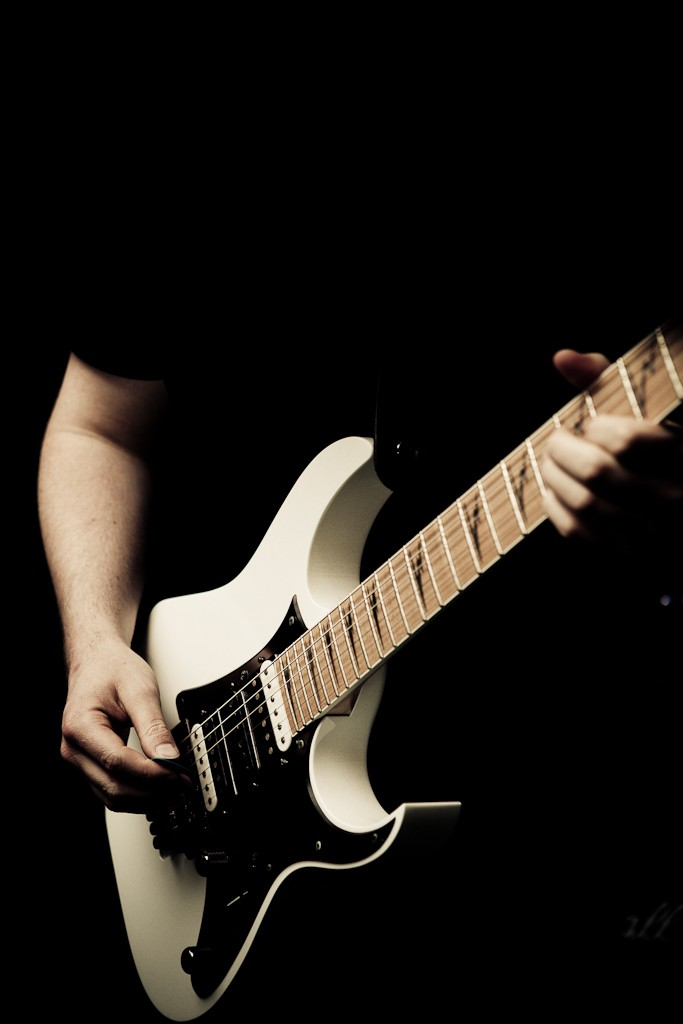guitar: (104, 324, 682, 1023)
